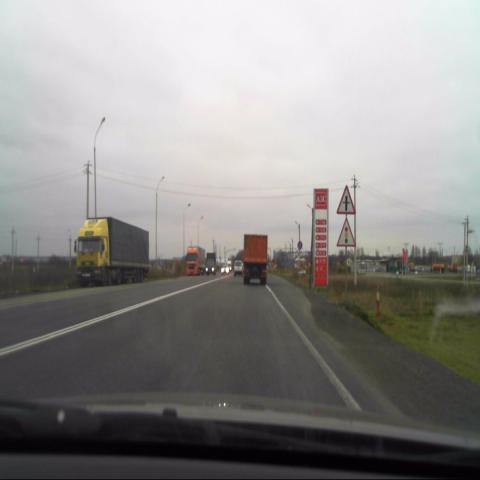1_8: (336, 218, 356, 248)
2_3: (336, 183, 356, 215)
